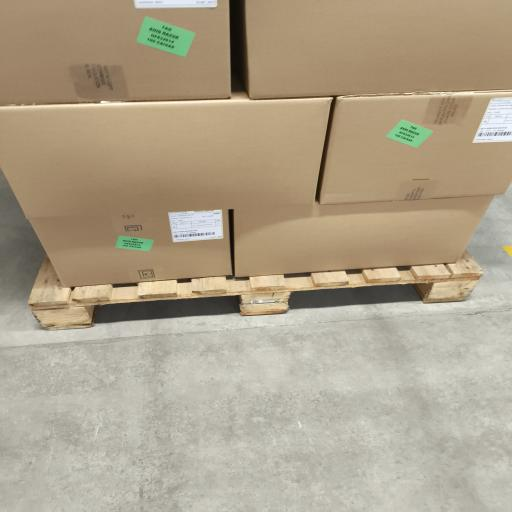pallet: (29, 252, 482, 329)
